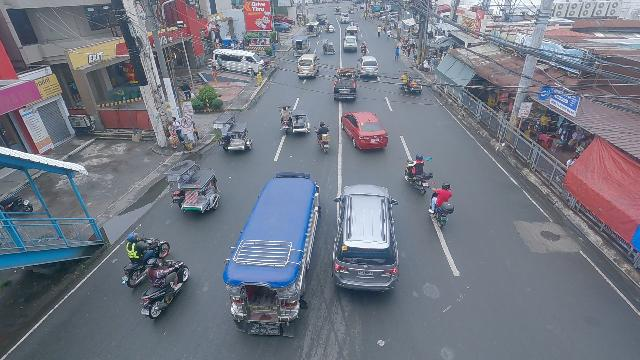car: (329, 182, 404, 292), (340, 111, 389, 150), (332, 67, 358, 102), (357, 56, 379, 79), (343, 35, 358, 52), (275, 22, 292, 33)
jeepney: (222, 170, 322, 338), (292, 35, 310, 55), (306, 21, 320, 36), (345, 26, 359, 40)
motorcycle: (139, 260, 189, 322), (119, 231, 171, 286), (429, 182, 455, 229), (401, 156, 430, 195), (314, 120, 333, 155), (360, 41, 368, 58)
van: (213, 48, 266, 75), (297, 54, 320, 78), (341, 12, 350, 23)
